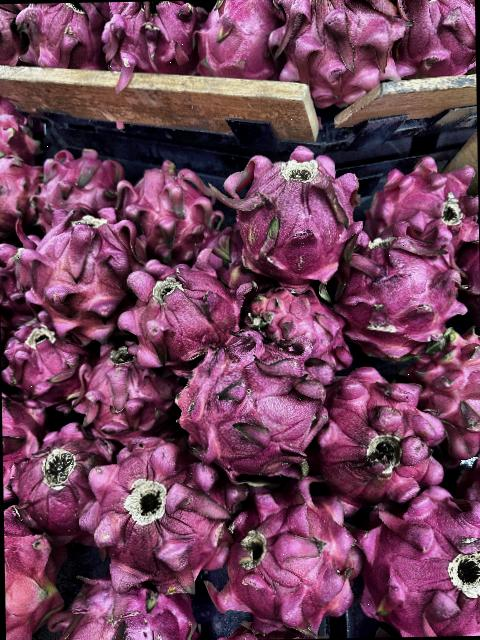buah-naga-belum-matang: (3, 499, 66, 640)
buah-naga-matang: (84, 436, 244, 593), (207, 148, 366, 296), (216, 483, 364, 640), (180, 332, 322, 488), (341, 214, 476, 368), (315, 368, 449, 514), (355, 492, 480, 638), (104, 256, 255, 376), (8, 222, 147, 348), (268, 0, 409, 106), (110, 157, 220, 280), (6, 423, 112, 542), (246, 284, 366, 378), (69, 336, 180, 434), (56, 567, 194, 640), (0, 306, 95, 412), (16, 2, 120, 90), (95, 1, 207, 78), (194, 0, 290, 89), (32, 148, 118, 238), (394, 0, 475, 78)
